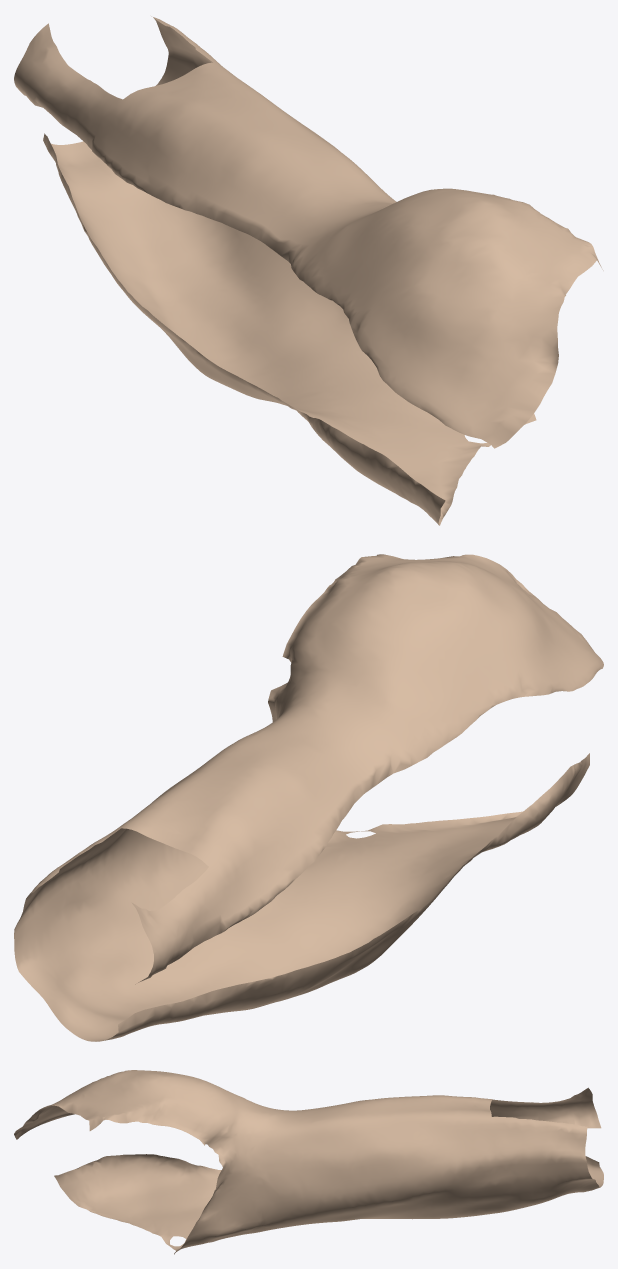
3 views of the same model, one above another, from view 1: azimuth 30°, elevation 25°; view 2: azimuth 150°, elevation 25°; view 3: azimuth 270°, elevation 25° (orthographic). The views are drawn at different scales.
Visible parts, largest first — view 1: 右侧阔筋膜; view 2: 右侧阔筋膜; view 3: 右侧阔筋膜.
Boxes of the visible parts, x1=… form: 右侧阔筋膜: x1=14, y1=16, x2=603, y2=525; 右侧阔筋膜: x1=14, y1=554, x2=603, y2=1041; 右侧阔筋膜: x1=14, y1=1070, x2=603, y2=1254.
Bounding box in the file's own units: 0.2348 × 0.258 × 0.8397.
